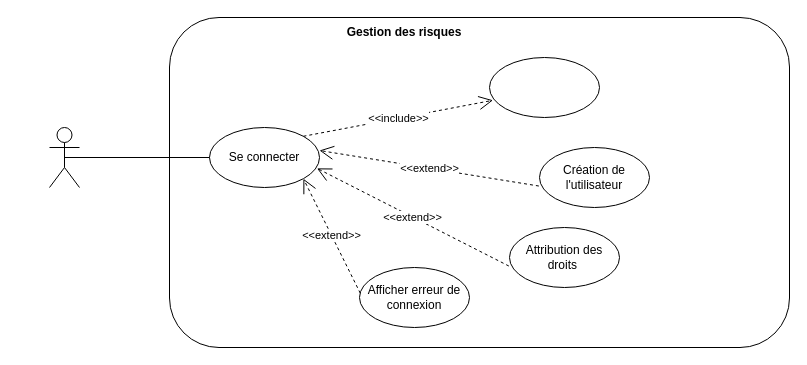
Some shapes in this 807 by 365 pixel diagram are drawn without their labels. The box of each missing label's shape, as (x1, y1, x2, y2) in pixels:
Utilisateur Interne: (48, 126, 80, 188)
Vérification utilisateur: (488, 56, 600, 118)
